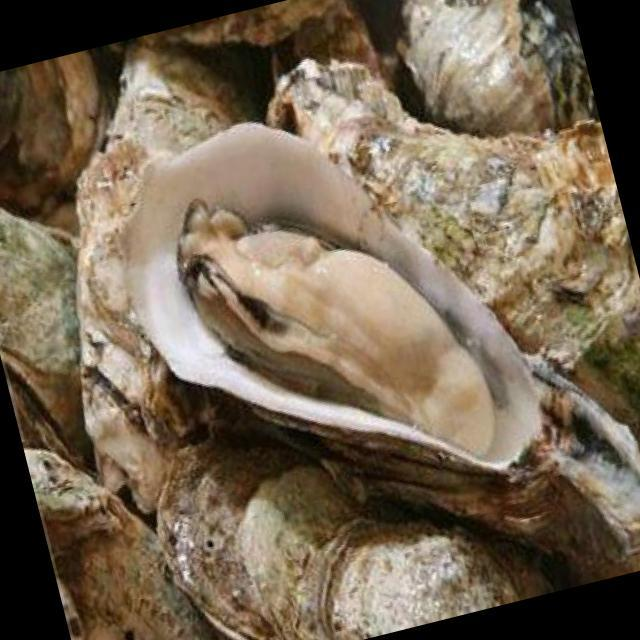Oyster- Indeterminate: (258, 50, 640, 460), (142, 396, 602, 640), (62, 41, 253, 524), (17, 427, 226, 640), (0, 199, 99, 480), (0, 48, 114, 249)
Oyster-Closed: (371, 0, 598, 135)
Oyster-Open: (105, 102, 640, 569)
